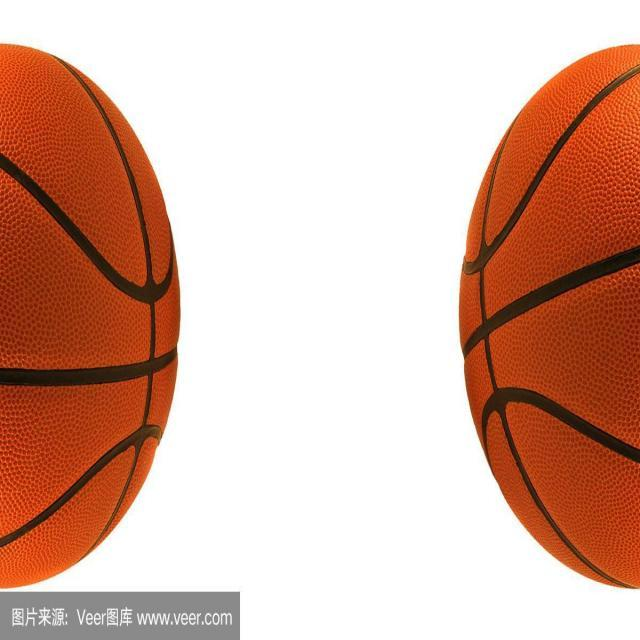rim: (458, 38, 640, 590), (2, 42, 185, 590)
